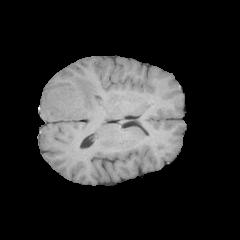glioma: (43, 75, 101, 120)
